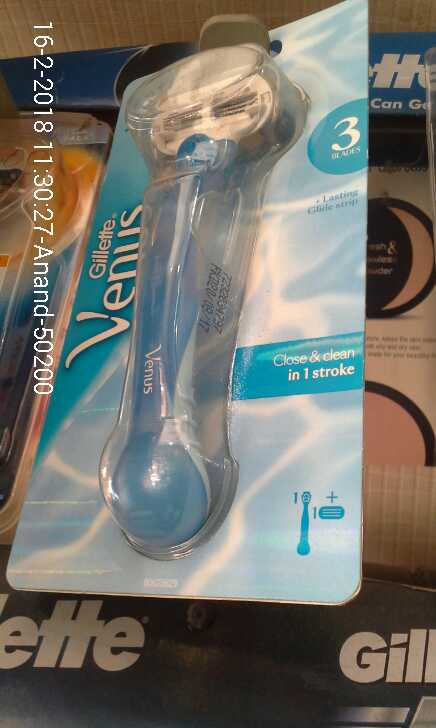venus: (62, 7, 372, 614)
